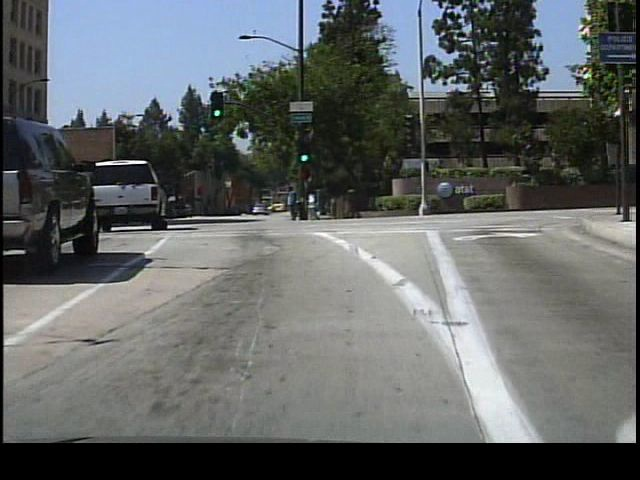person: (281, 178, 301, 223), (303, 186, 322, 224)
